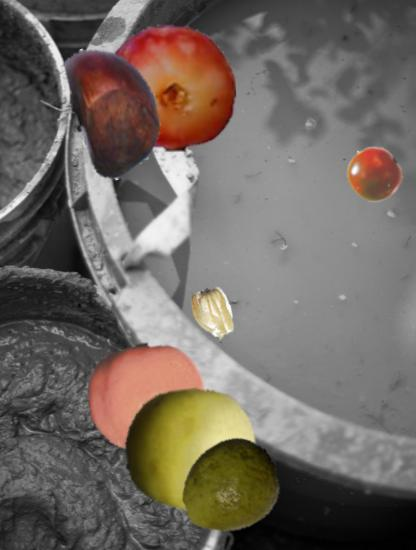Apple: (123, 382, 258, 517)
Chestnut: (49, 42, 185, 178)
Clementine: (86, 336, 207, 457)
Grape: (104, 22, 237, 155)
Guava: (177, 437, 280, 540)
Physalis: (187, 288, 241, 342)
Tomato: (346, 146, 403, 203)
